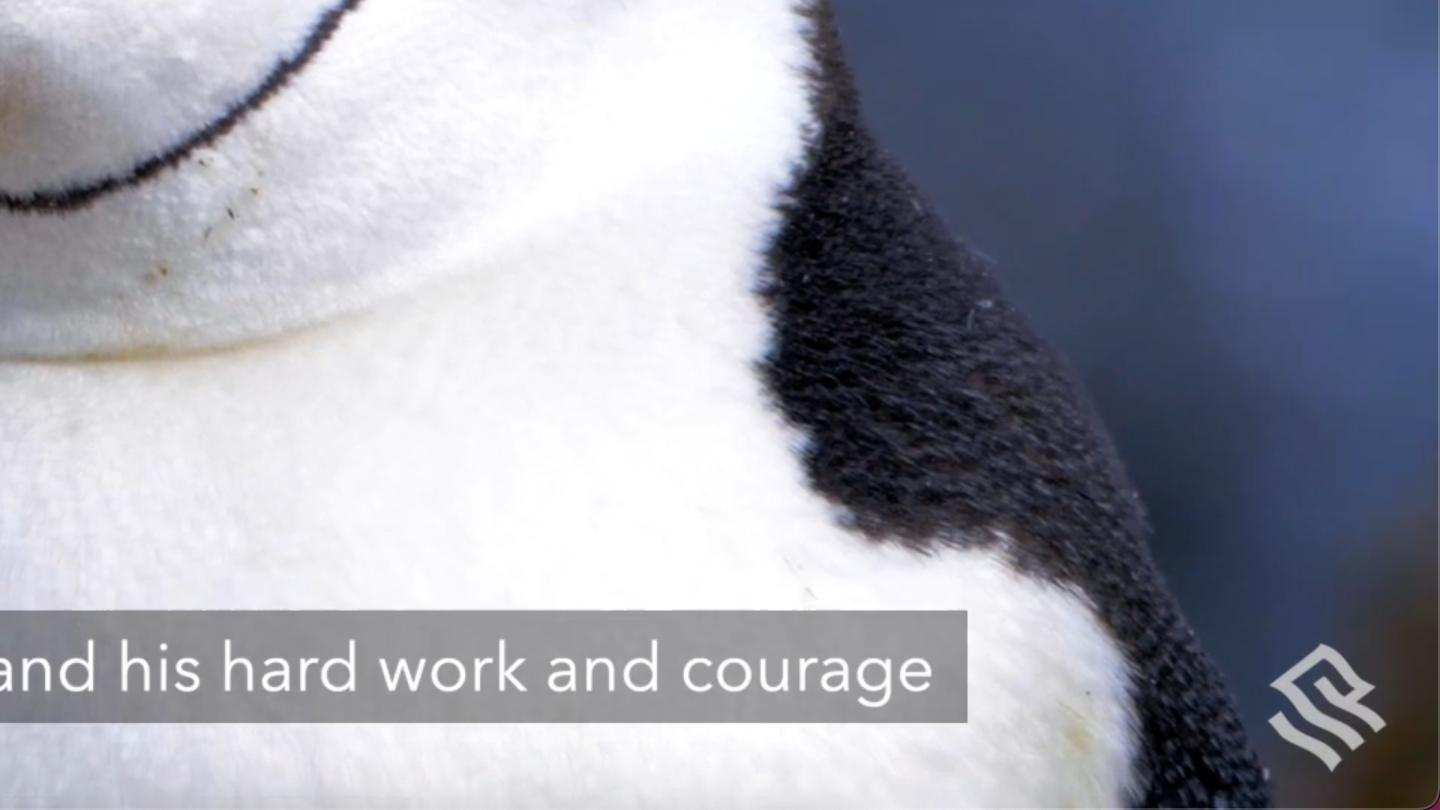Chinstrap Penguin: (0, 0, 1166, 592)
